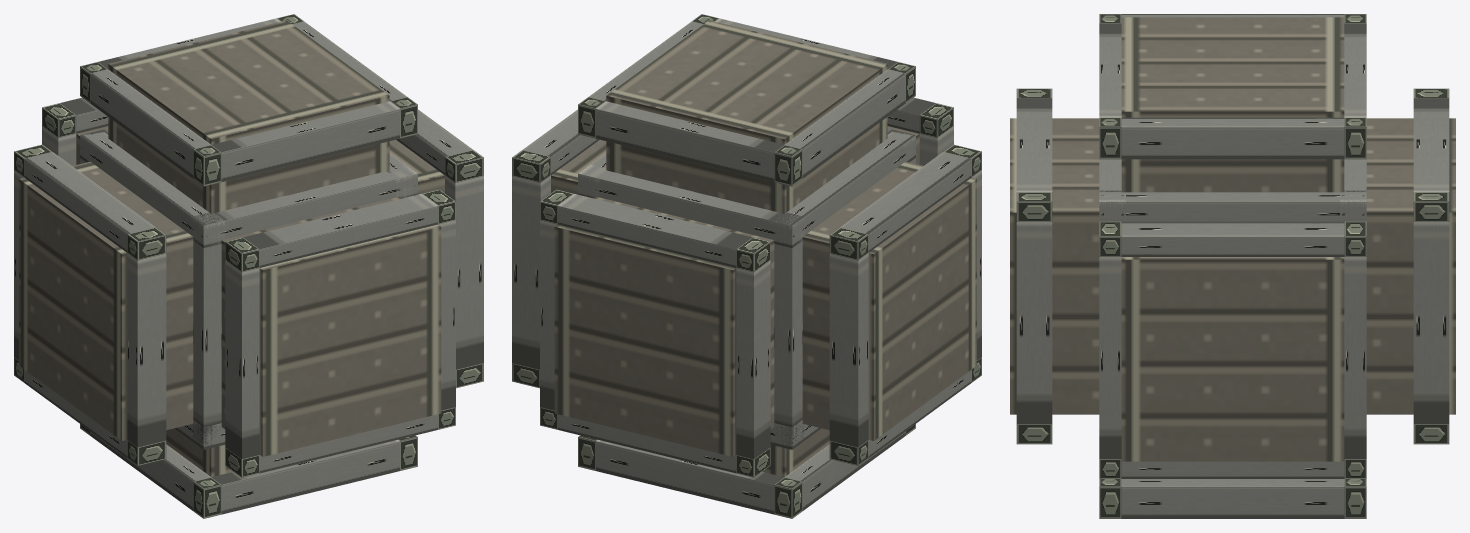
Rendered from heat_duct.obj.
3 renders of one model, left to right at view 1: azimuth 30°, elevation 25°; view 2: azimuth 150°, elevation 25°; view 3: azimuth 270°, elevation 25°, orthographic. The views are drawn at different scales.
Parts seen in each view (by area): view 1: arm_south, arm_west, arm_up, core, arm_down, arm_east, arm_north; view 2: arm_north, arm_west, arm_up, core, arm_down, arm_east, arm_south; view 3: arm_east, arm_up, arm_north, arm_south, arm_down, core.
Part boxes in pixels (bbox=[...]): arm_south: bbox=[221, 189, 455, 477]; arm_west: bbox=[14, 144, 193, 465]; arm_up: bbox=[80, 14, 417, 213]; core: bbox=[80, 128, 417, 449]; arm_down: bbox=[80, 424, 417, 518]; arm_east: bbox=[389, 109, 483, 388]; arm_north: bbox=[42, 97, 108, 165]; arm_north: bbox=[540, 189, 774, 477]; arm_west: bbox=[802, 144, 981, 465]; arm_up: bbox=[578, 14, 915, 213]; core: bbox=[578, 128, 915, 449]; arm_down: bbox=[578, 424, 915, 518]; arm_east: bbox=[512, 109, 606, 388]; arm_south: bbox=[887, 97, 953, 165]; arm_east: bbox=[1099, 221, 1366, 478]; arm_up: bbox=[1099, 14, 1366, 192]; arm_north: bbox=[1366, 88, 1455, 444]; arm_south: bbox=[1010, 88, 1099, 444]; arm_down: bbox=[1099, 479, 1366, 518]; core: bbox=[1099, 159, 1366, 221].
Bounding box in the file's own units: 1 × 1 × 1.
Materials: 1 (1 with a texture image).
